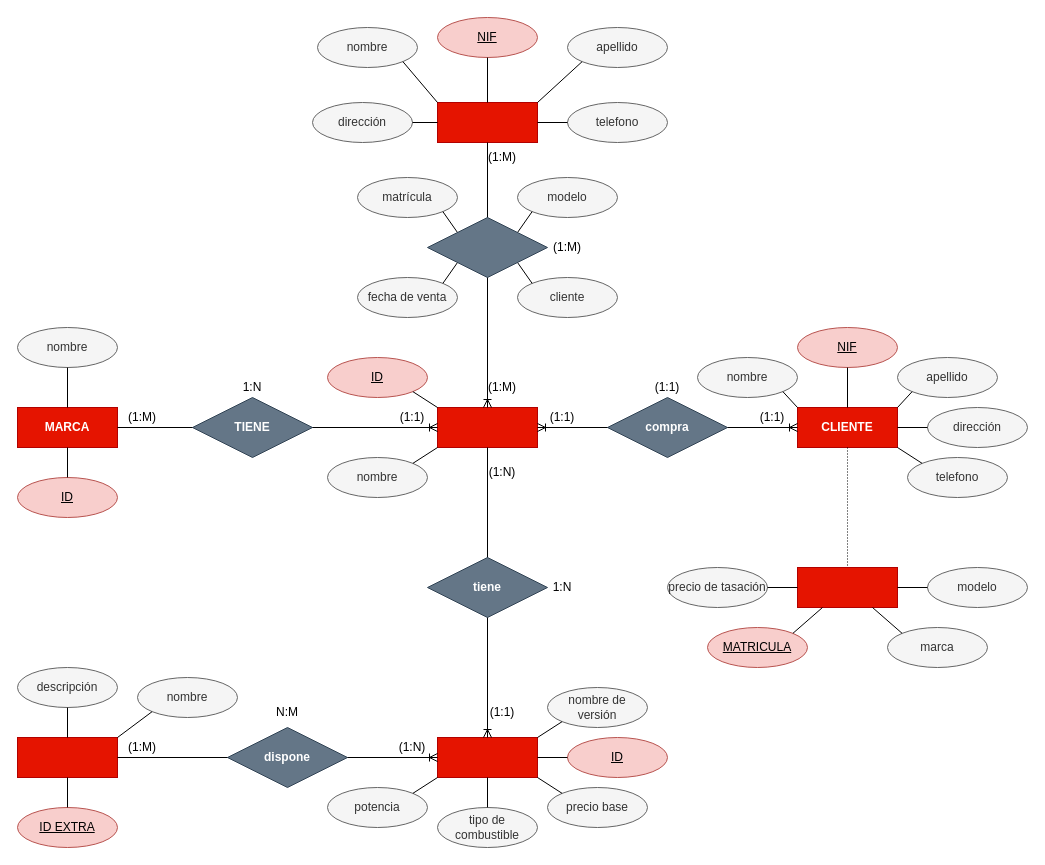
Image size: 1045x865. Some labels were removed from this diagram. The shapes that lost their labels are listed below. From the top down, each one's centre as x and y in pixels, then its label:
point 487,122: VENDEDOR
point 487,247: vende
point 487,427: MODELOS
point 847,587: COCHE USADO
point 67,757: EXTRAS
point 487,757: VERSIÓN
